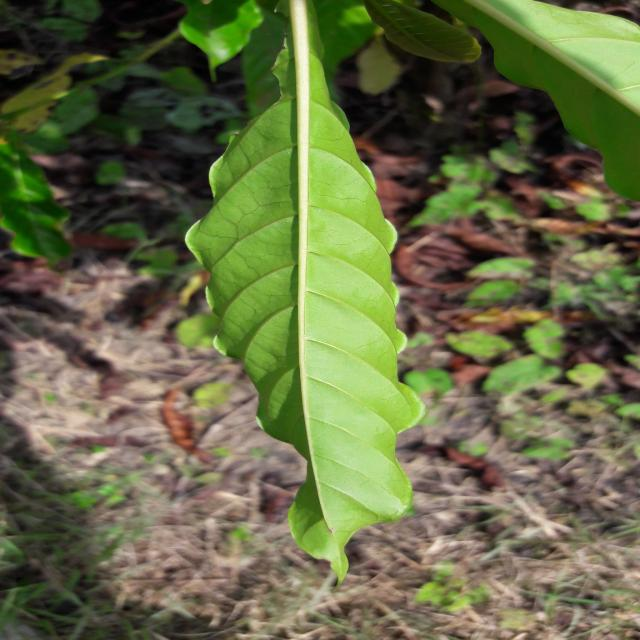Sanas: (184, 51, 424, 584)
